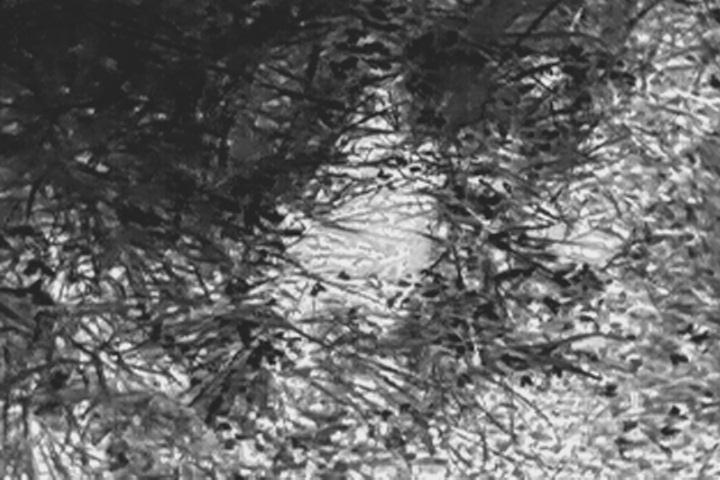landmine: (267, 92, 457, 337)
